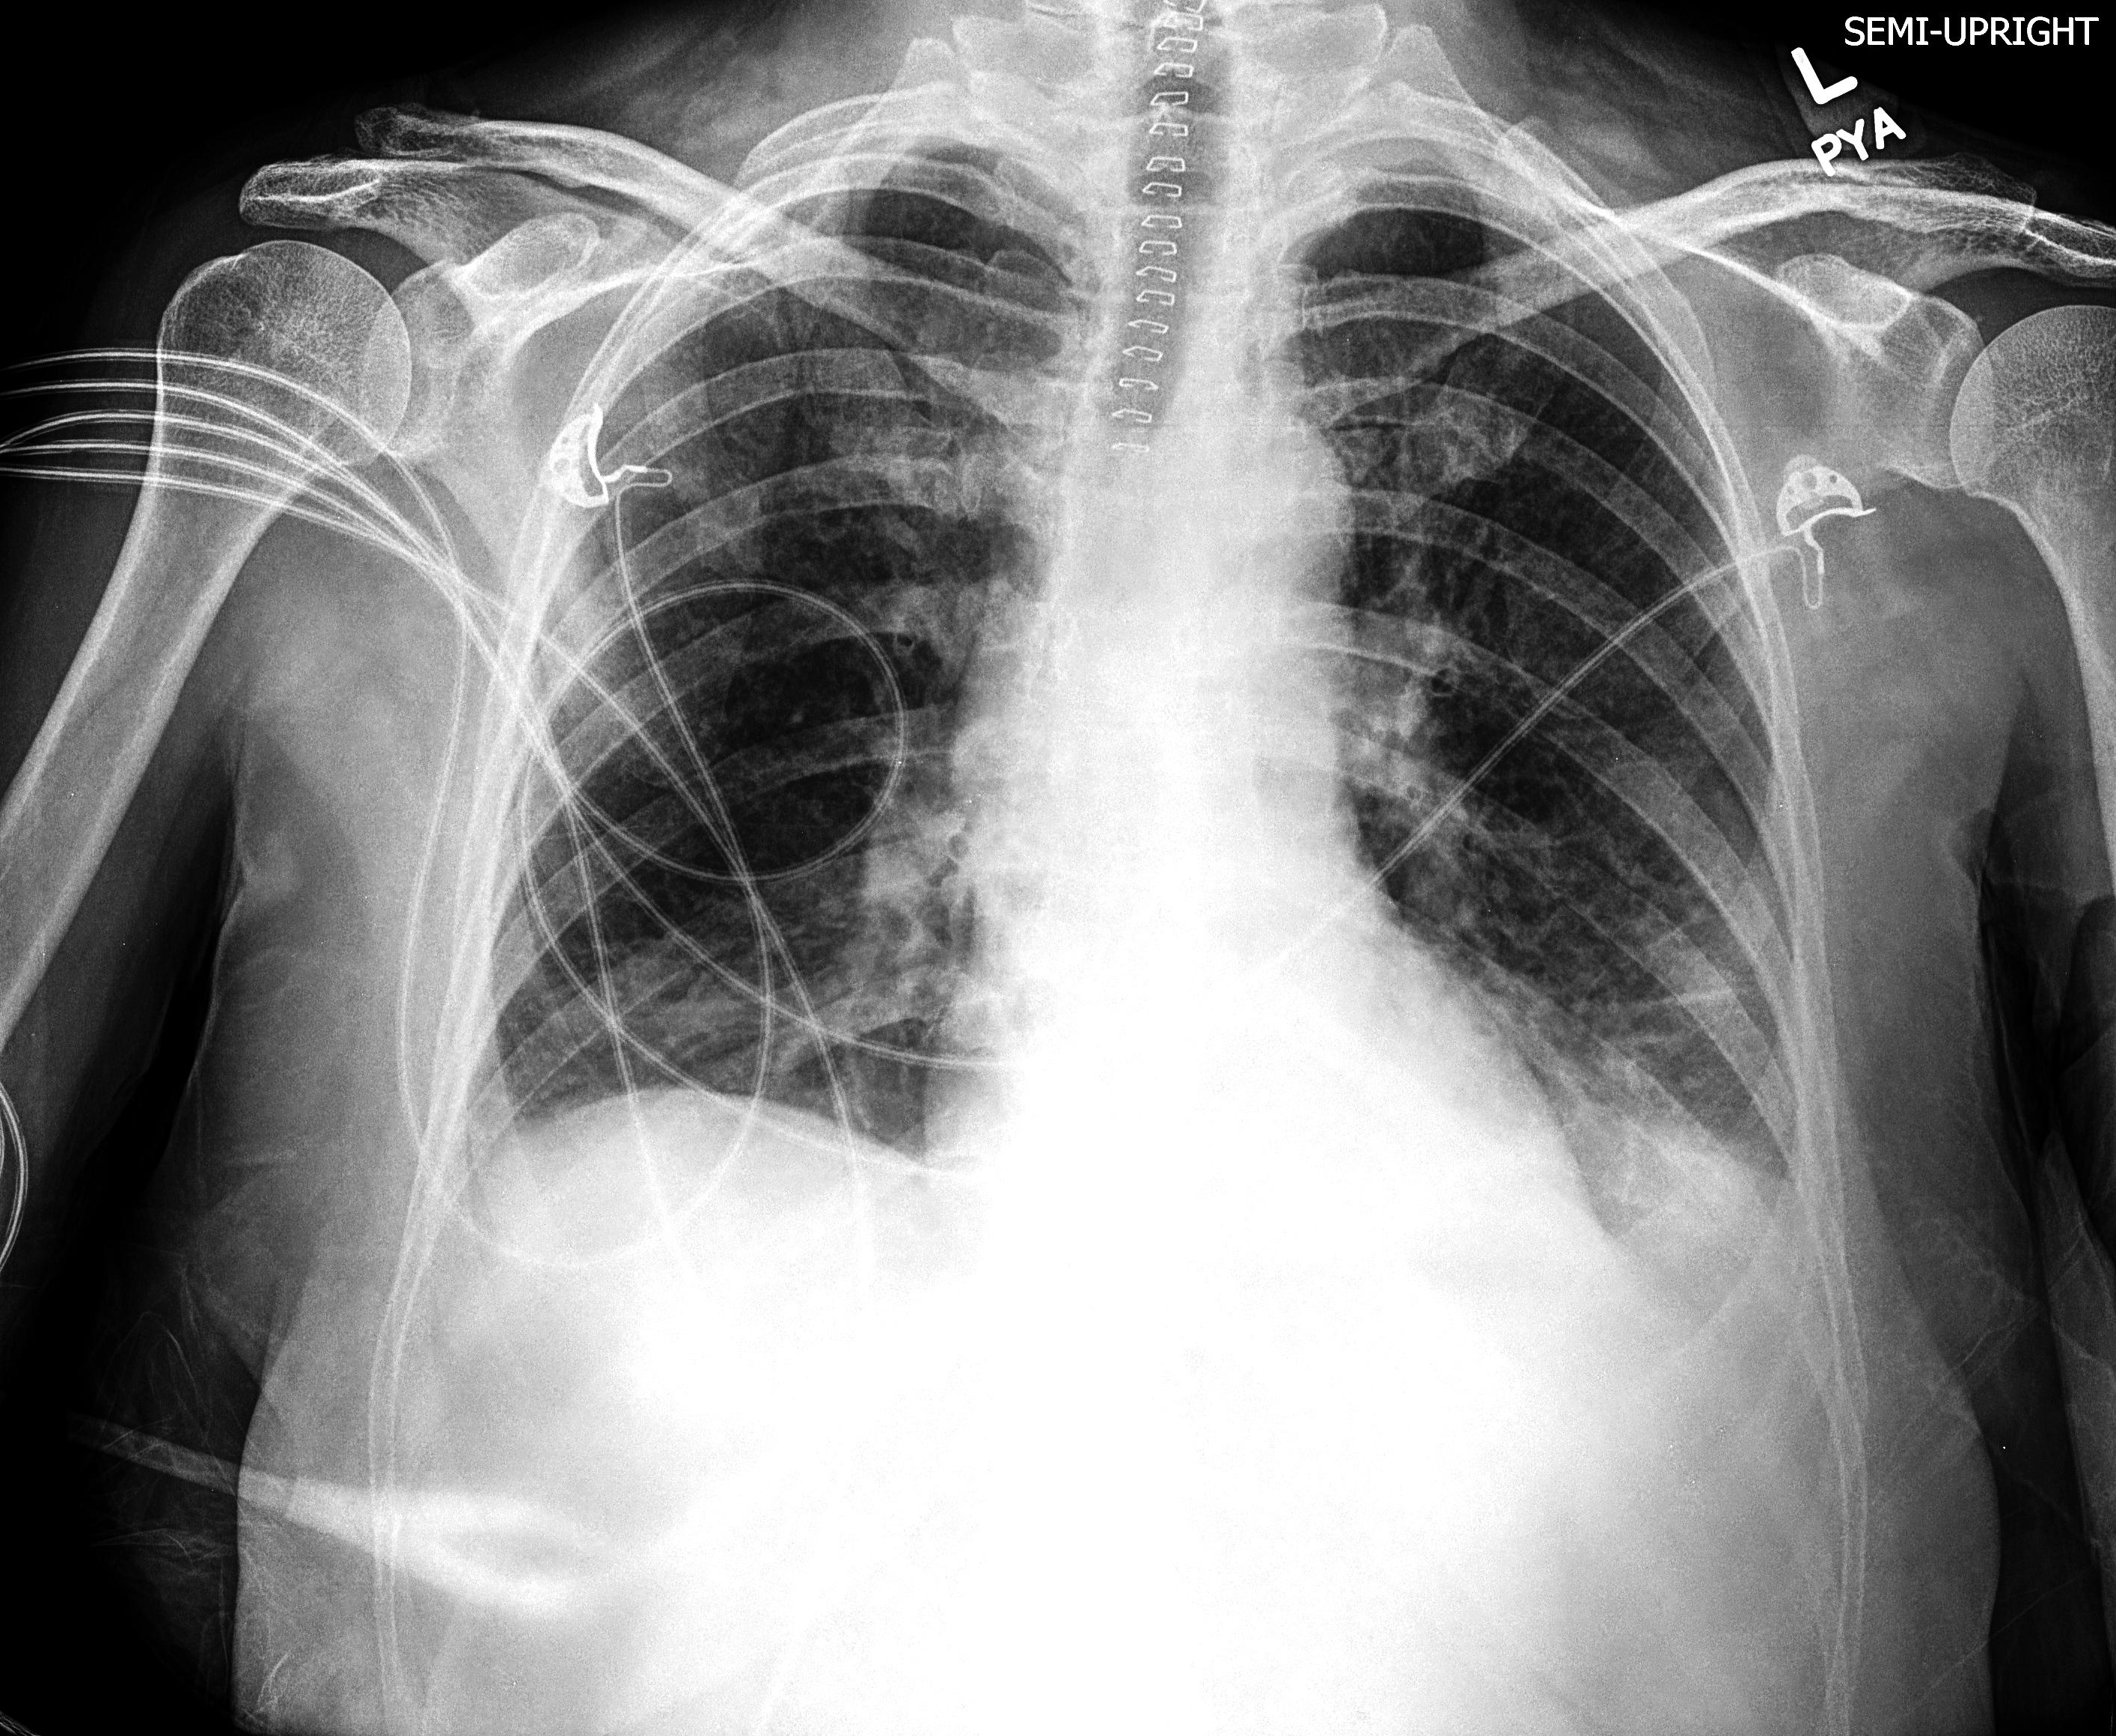Pleural Effusion: (1487, 1165, 1896, 1418)
